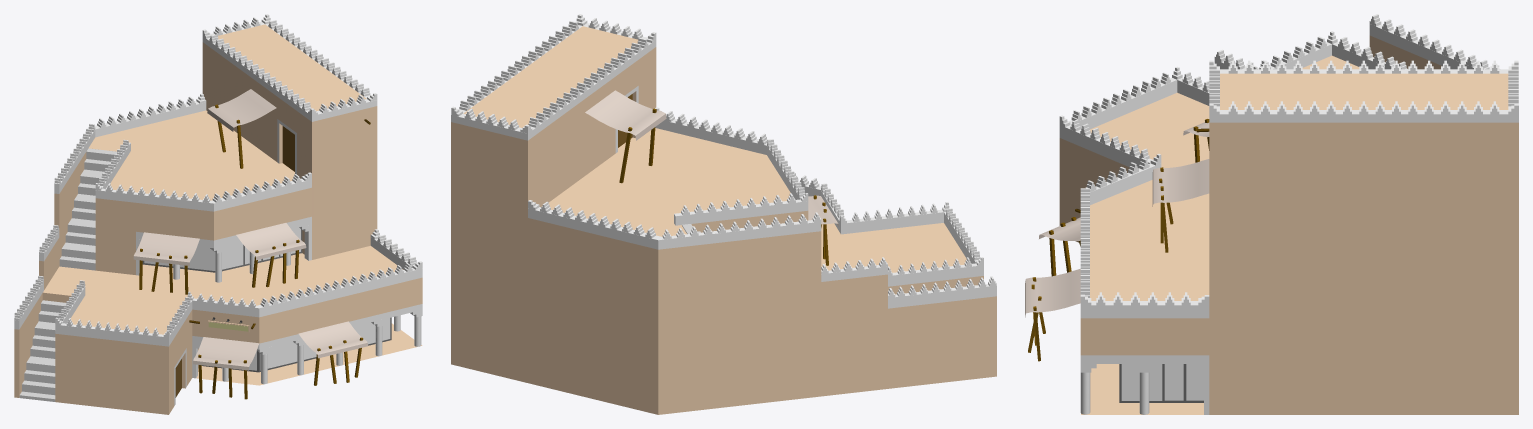
Rendered from Building2.fbx.
3 renders of one model, left to right at view 1: azimuth 30°, elevation 25°; view 2: azimuth 150°, elevation 25°; view 3: azimuth 270°, elevation 25°, orthographic. The views are drawn at different scales.
Visible parts, largest first — view 1: Building, Umbrella (×5), F_Stairs, G_Stairs1, G_Glass2, F_Glass3; view 2: Building, Umbrella (×2); view 3: Building, Umbrella (×3), G_Glass2, pCylinder1 (×2).
Part boxes in pixels (box(x1,y1,x2,y2)): Building: box(14, 21, 422, 414); Umbrella (×5): box(133, 89, 367, 370); F_Stairs: box(59, 148, 116, 270); G_Stairs1: box(19, 300, 66, 401); G_Glass2: box(201, 317, 391, 372); F_Glass3: box(142, 227, 302, 272); Building: box(451, 23, 996, 414); Umbrella (×2): box(585, 90, 838, 226); Building: box(1059, 24, 1518, 414); Umbrella (×3): box(1025, 159, 1209, 317); G_Glass2: box(1119, 364, 1203, 402); pCylinder1 (×2): box(1080, 372, 1149, 414).
Bounding box in the file's own units: 54.99 × 32.11 × 46.26.
